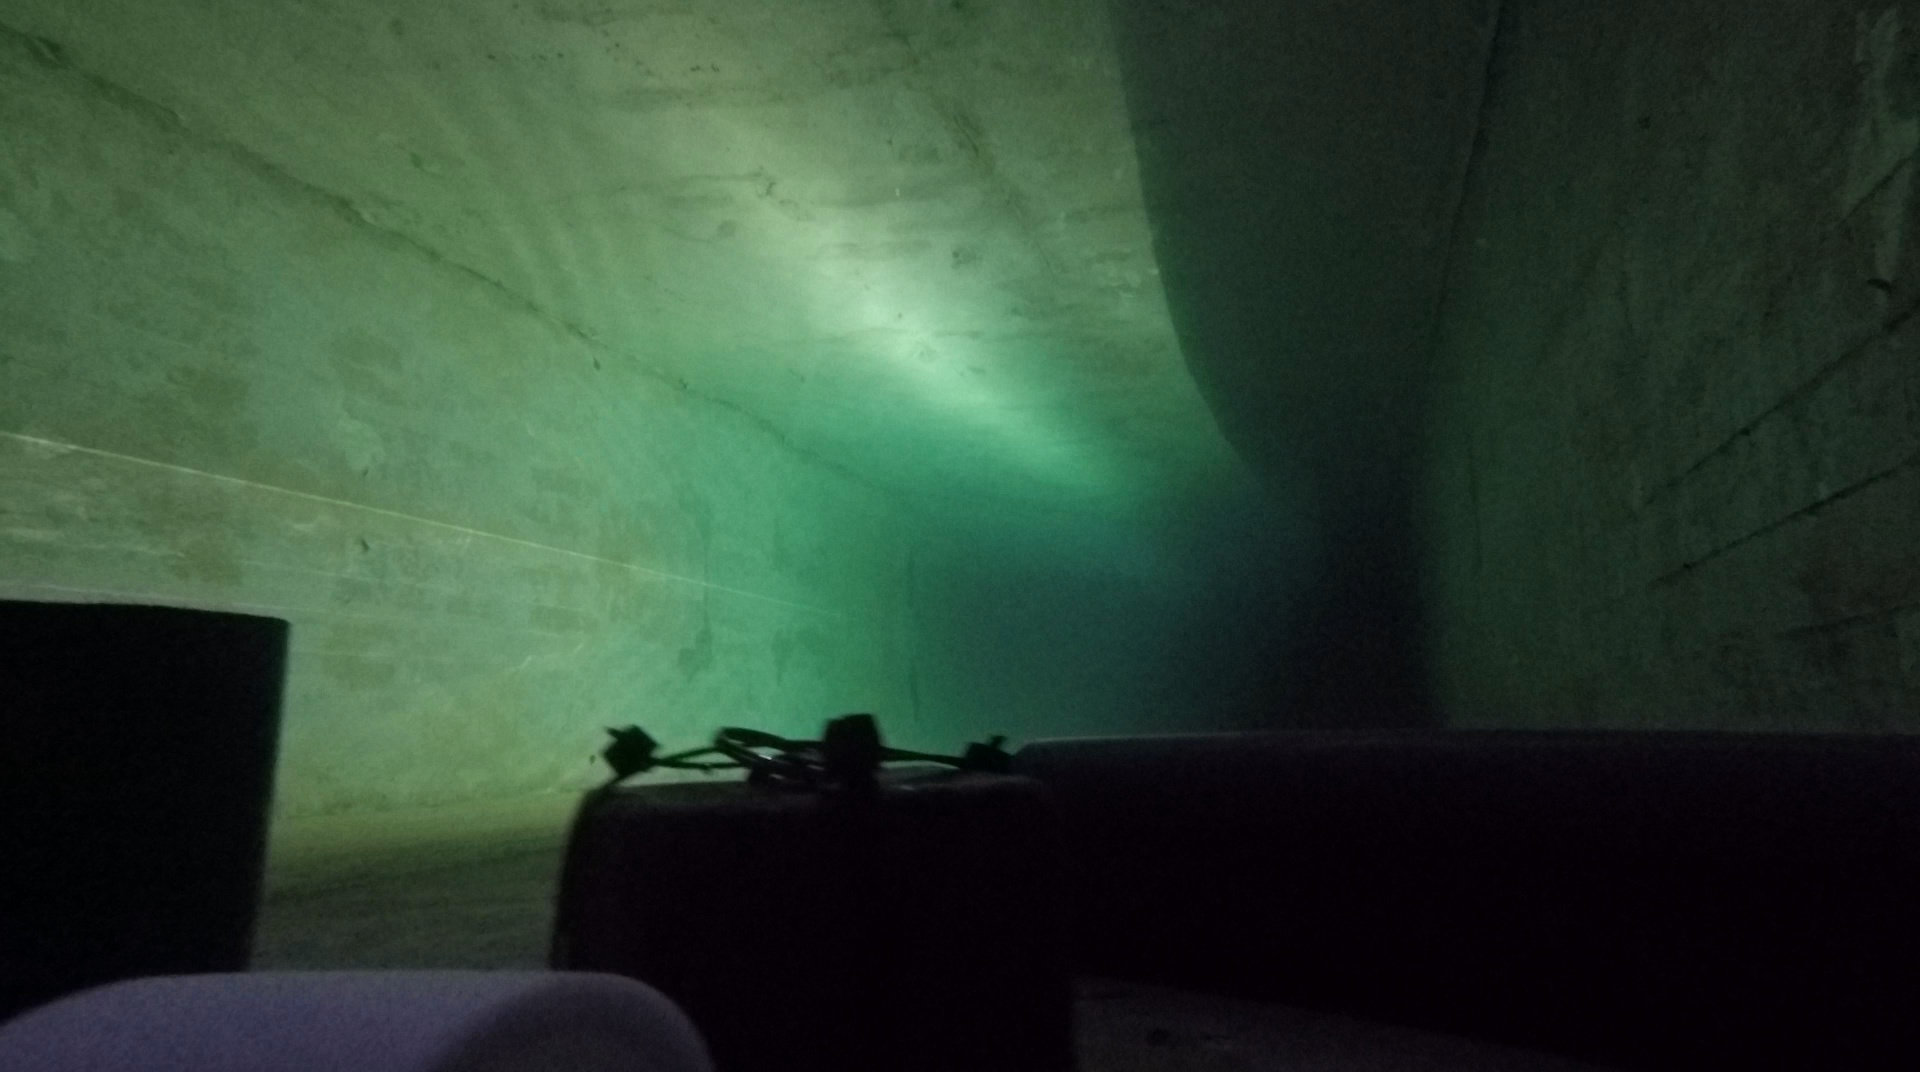led_block: (547, 713, 1067, 1072)
pipe: (1017, 725, 1920, 1069), (1, 597, 289, 1018), (1, 968, 717, 1071)
